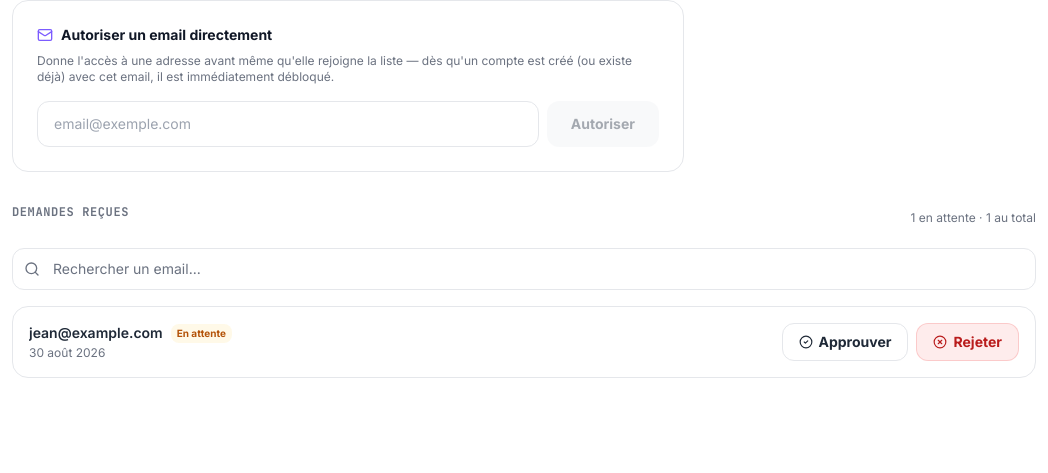
Test: AdminWaitlistTab -- actions › email non envoye (Resend pas configure) -> notice douce, jamais une erreur (l'acces est deja ouvert)
expect the text "jean@example.com" is shown: met, box x1=29 y1=323 x2=163 y2=343
Click the button "Approuver".
click(845, 342)  # box x1=782 y1=323 x2=908 y2=361
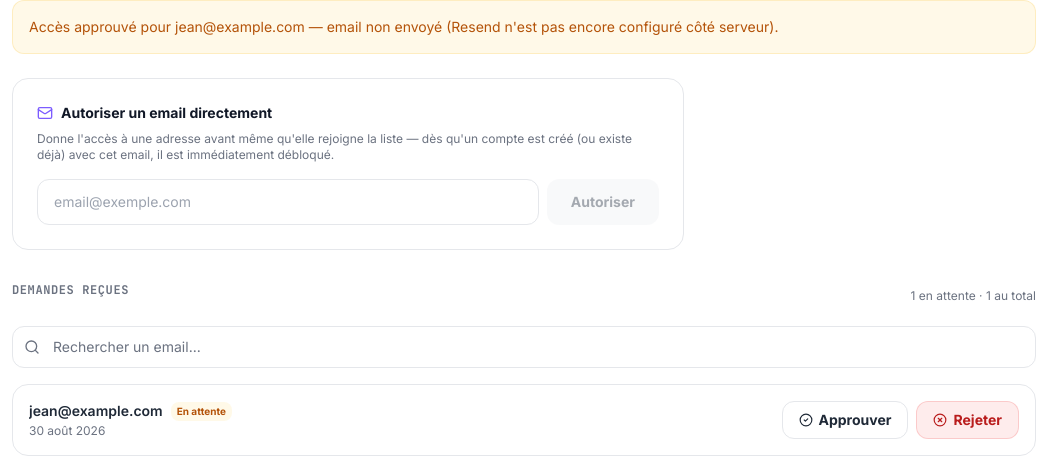
expect the text "Resend n'est pas encore configuré" is shown: met, box x1=29 y1=18 x2=778 y2=35
